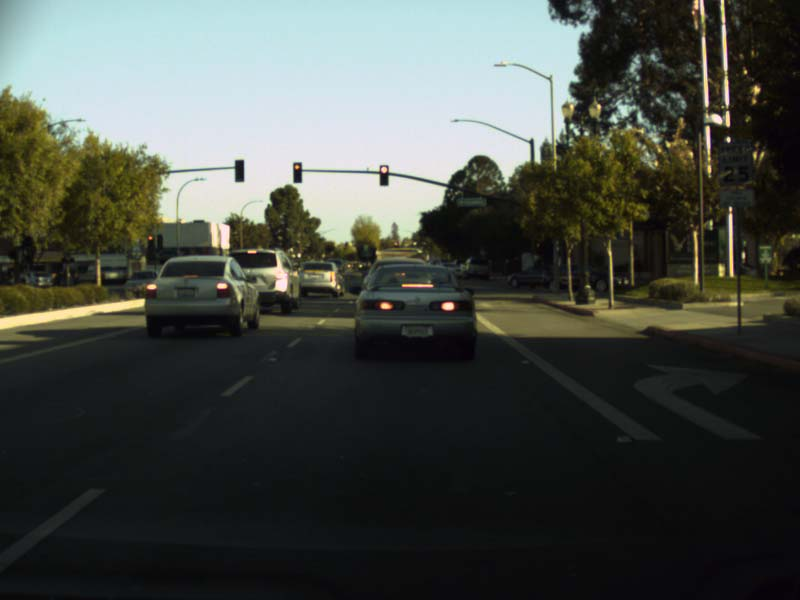Red: (378, 166, 387, 186), (292, 162, 301, 181), (146, 234, 154, 249), (394, 241, 397, 250)
